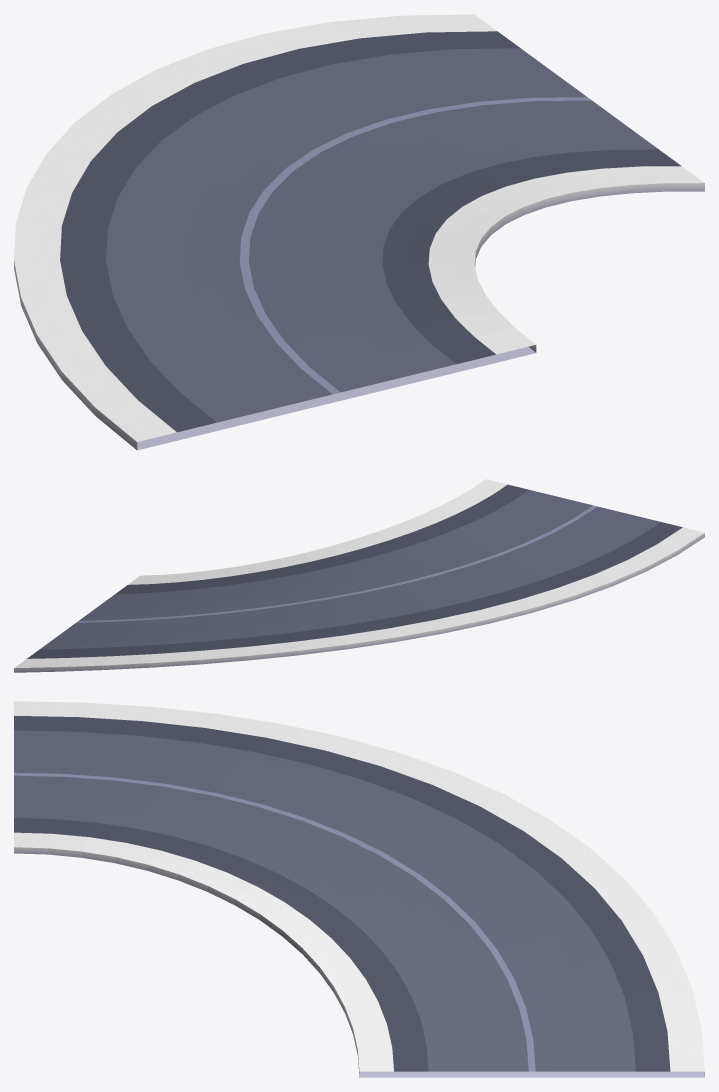
The model's file is road-Turn-Flat-BiSlopeDown-Down1-Right-Size2.glb.
3 renders of one model, top to bottom at view 1: azimuth 30°, elevation 25°; view 2: azimuth 150°, elevation 25°; view 3: azimuth 270°, elevation 25°, orthographic. The views are drawn at different scales.
Visible parts, largest first — view 1: road-Turn-Flat-BiSlopeDown-Down1-Right-Size2; view 2: road-Turn-Flat-BiSlopeDown-Down1-Right-Size2; view 3: road-Turn-Flat-BiSlopeDown-Down1-Right-Size2.
Part boxes in pixels (x1,y1,x2,y2): road-Turn-Flat-BiSlopeDown-Down1-Right-Size2: (14,14,704,450); road-Turn-Flat-BiSlopeDown-Down1-Right-Size2: (14,479,704,672); road-Turn-Flat-BiSlopeDown-Down1-Right-Size2: (14,701,704,1077).
Bounding box in the file's own units: 2 × 0.2706 × 2.
Materials: 1 (1 with a texture image).
